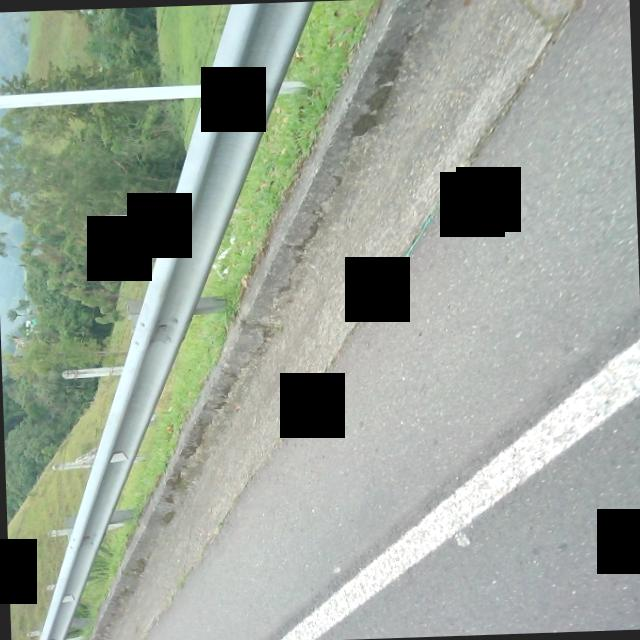DITCH: (59, 0, 630, 640)
